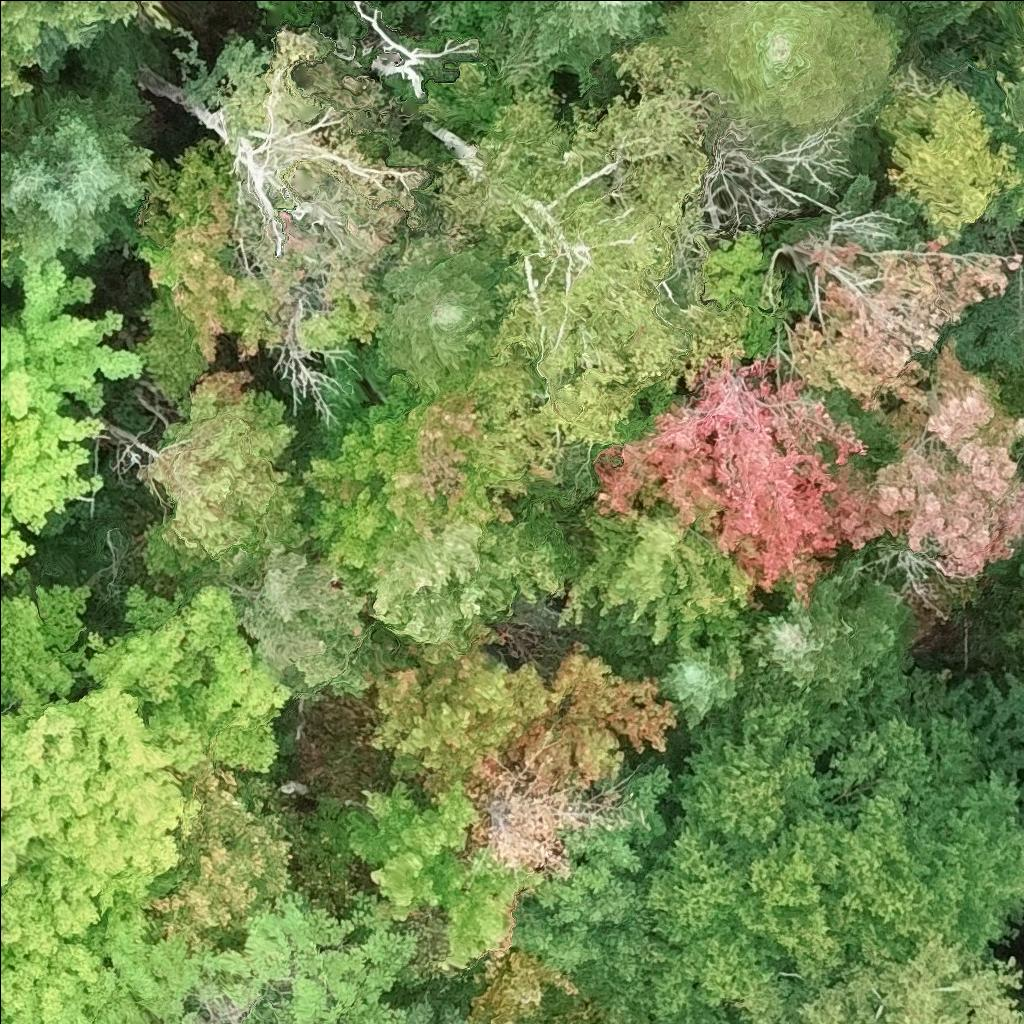crown: (573, 691, 1023, 1023), (423, 36, 751, 469), (0, 578, 292, 960), (588, 356, 904, 603), (294, 373, 557, 590), (365, 640, 677, 798), (0, 244, 144, 577), (121, 134, 280, 413), (785, 233, 1022, 414), (135, 361, 312, 590), (340, 776, 543, 974), (556, 496, 764, 674), (873, 332, 1023, 577), (508, 760, 676, 975), (160, 887, 423, 1023), (650, 0, 908, 130), (0, 65, 160, 265), (146, 762, 298, 951), (736, 558, 909, 720), (348, 234, 514, 395), (0, 891, 189, 1023), (785, 928, 1023, 1023), (873, 81, 1022, 230), (498, 0, 676, 86), (620, 631, 743, 751), (0, 0, 108, 95), (853, 534, 956, 617), (876, 0, 973, 42), (407, 990, 470, 1023), (101, 0, 146, 25), (0, 228, 22, 268), (252, 0, 279, 10), (289, 0, 332, 5), (963, 0, 986, 6), (0, 119, 4, 132), (146, 1021, 157, 1023), (1022, 337, 1023, 343)
